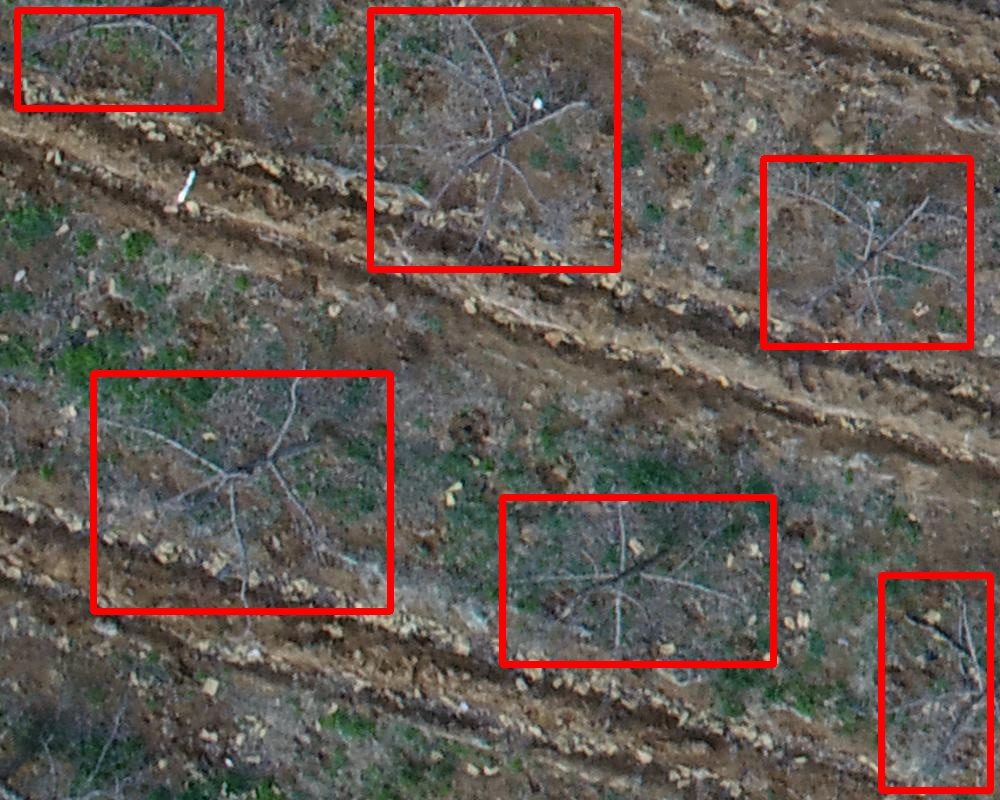apple: (93, 373, 390, 611), (370, 10, 617, 269), (502, 497, 773, 664), (763, 158, 970, 346), (881, 575, 990, 790), (17, 10, 220, 108)
